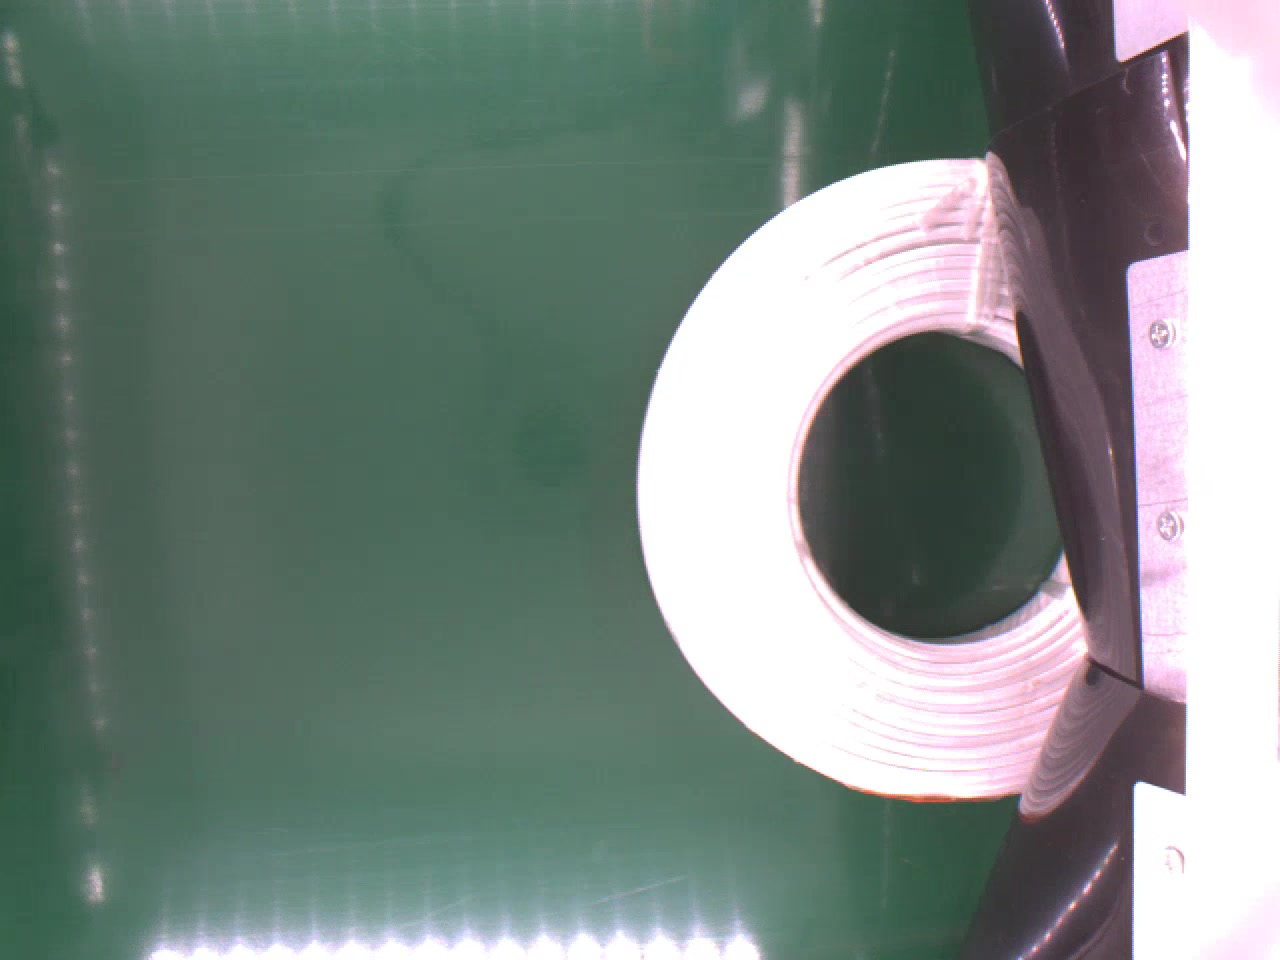white: (635, 147, 1093, 808)
